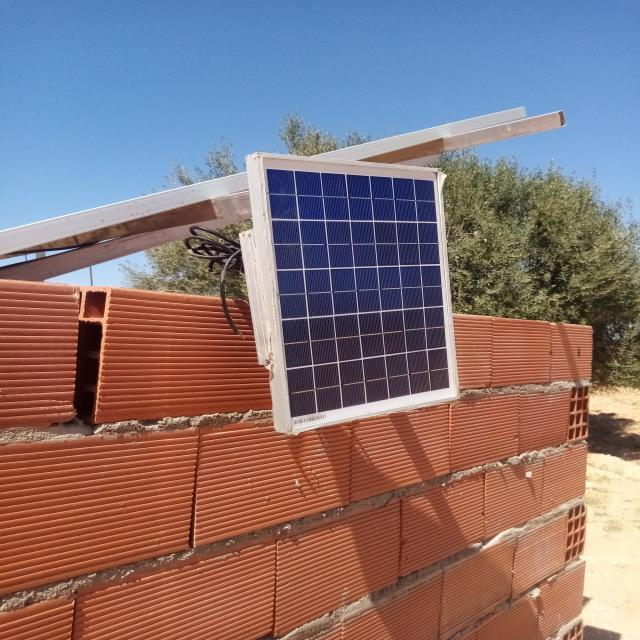no faulty: (258, 155, 460, 433)
